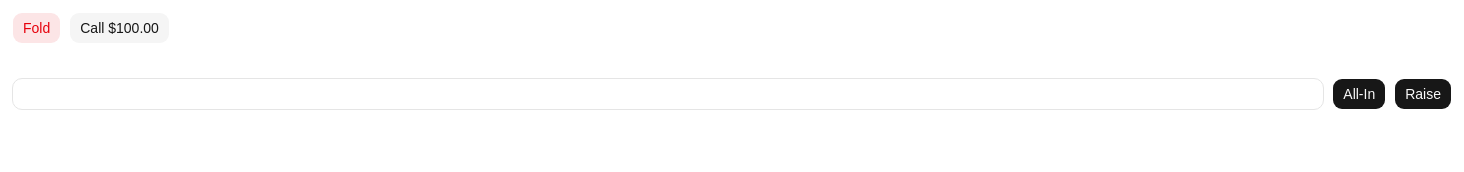
Test: ActionControls › rejects a raise amount exceeding max_raise_to, client-side
Replace the text in the number field labelled "Raise To:" with "9000" at (668, 94), box 12,78 -> 1324,110
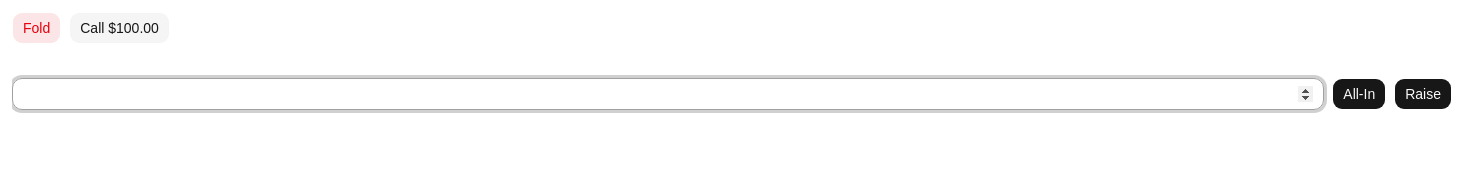
Click the button "Raise".
click(1423, 94)  # box 1394,78 -> 1452,110
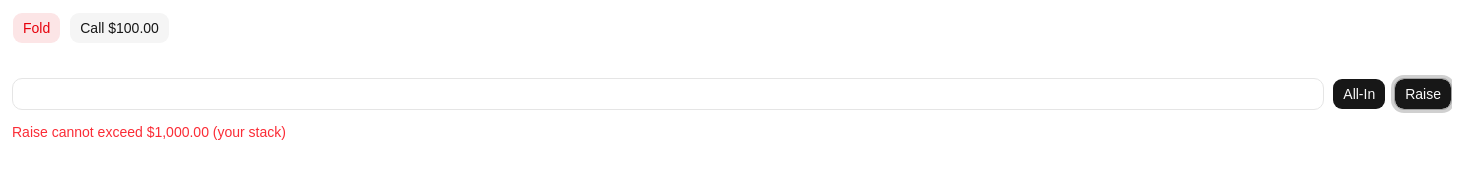
Result: the text "Raise cannot exceed $1,000.00 (your stack)" is shown at 12,124 -> 286,140
